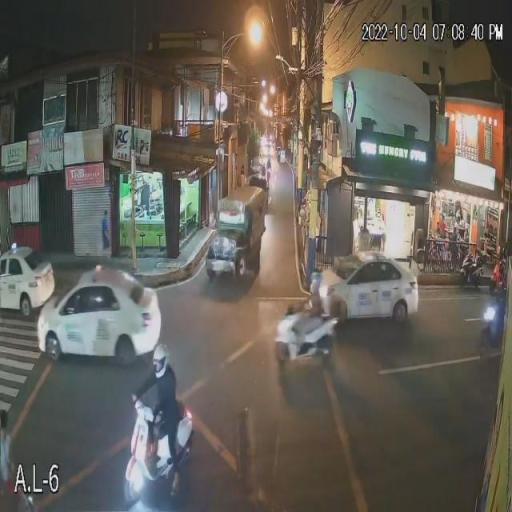helmet: (151, 344, 169, 378), (308, 269, 323, 291)
motorcycle: (118, 417, 196, 502), (273, 310, 341, 364)
rider: (153, 381, 185, 499), (300, 296, 324, 353)
